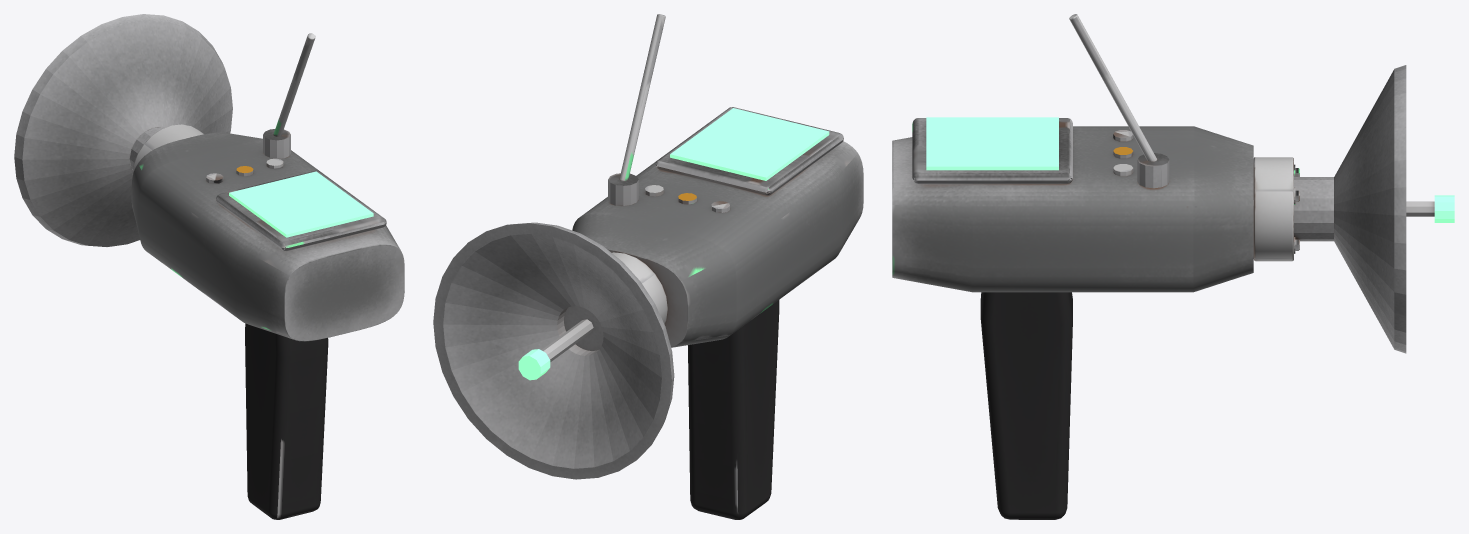
The model's file is SM_ScannerTool.glb.
The picture shows the model from 3 angles, left to right: view 1: azimuth 30°, elevation 25°; view 2: azimuth 150°, elevation 25°; view 3: azimuth 270°, elevation 25°; orthographic projection. The views are drawn at different scales.
Visible parts, largest first — view 1: SM_ScannerTool, SM_ScannerTool_Dish; view 2: SM_ScannerTool, SM_ScannerTool_Dish; view 3: SM_ScannerTool, SM_ScannerTool_Dish.
Boxes of the visible parts, left/top/right/bottom form: SM_ScannerTool: left=131, top=33, right=404, bottom=519; SM_ScannerTool_Dish: left=14, top=14, right=232, bottom=246; SM_ScannerTool: left=572, top=14, right=863, bottom=519; SM_ScannerTool_Dish: left=433, top=222, right=674, bottom=479; SM_ScannerTool: left=892, top=14, right=1299, bottom=519; SM_ScannerTool_Dish: left=1294, top=65, right=1454, bottom=353.
Size of the model in its own units: 0.144 by 0.2859 by 0.28.
6 materials, 5 textured.
